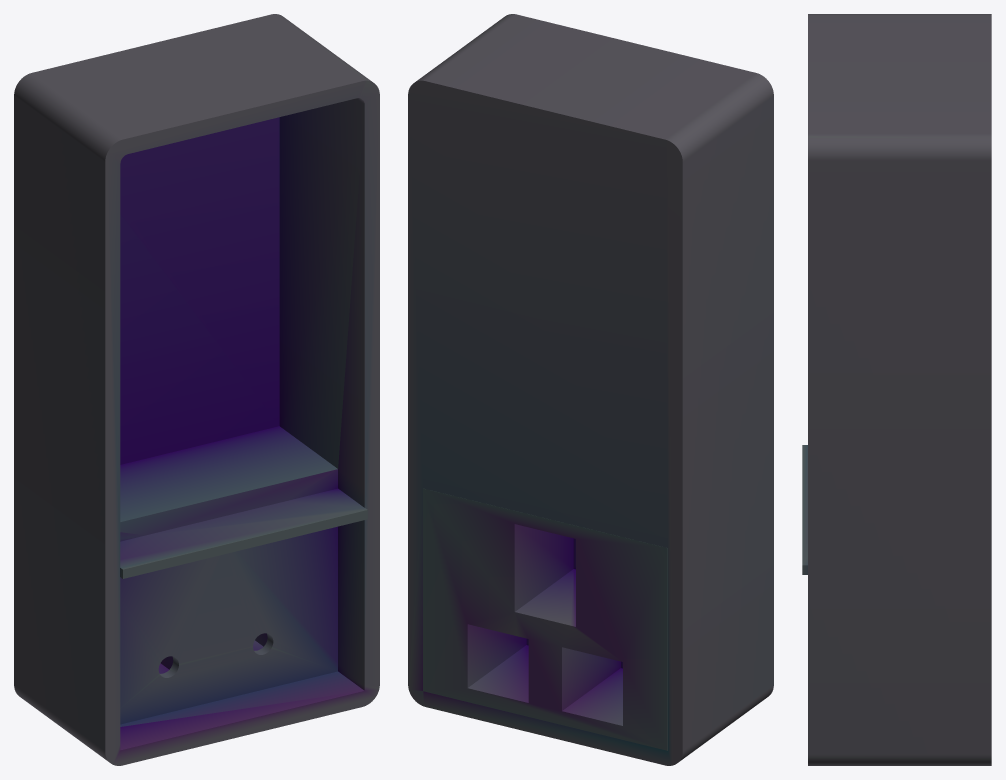
3 views of the same model, side by side, from view 1: azimuth 30°, elevation 25°; view 2: azimuth 150°, elevation 25°; view 3: azimuth 270°, elevation 25° (orthographic).
Parts seen in each view (by area): view 1: case; view 2: case; view 3: case.
Boxes of the visible parts, x1=… form: case: x1=14, y1=14, x2=379, y2=765; case: x1=408, y1=14, x2=773, y2=765; case: x1=802, y1=14, x2=991, y2=765.
Size of the model in its own units: 0.8267 by 1.8 by 0.4901.
